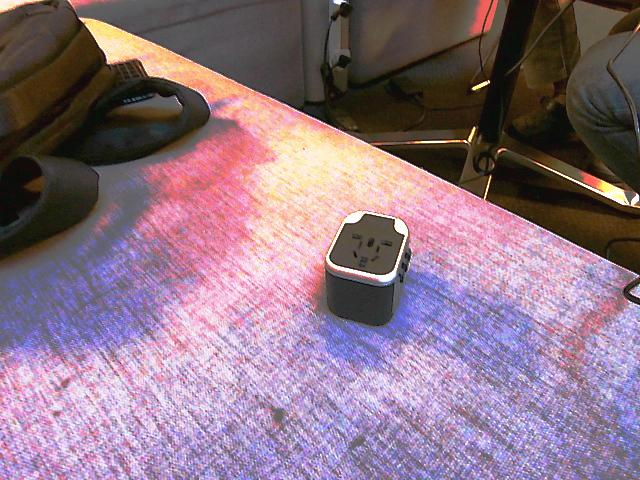adapter: (323, 210, 412, 326)
